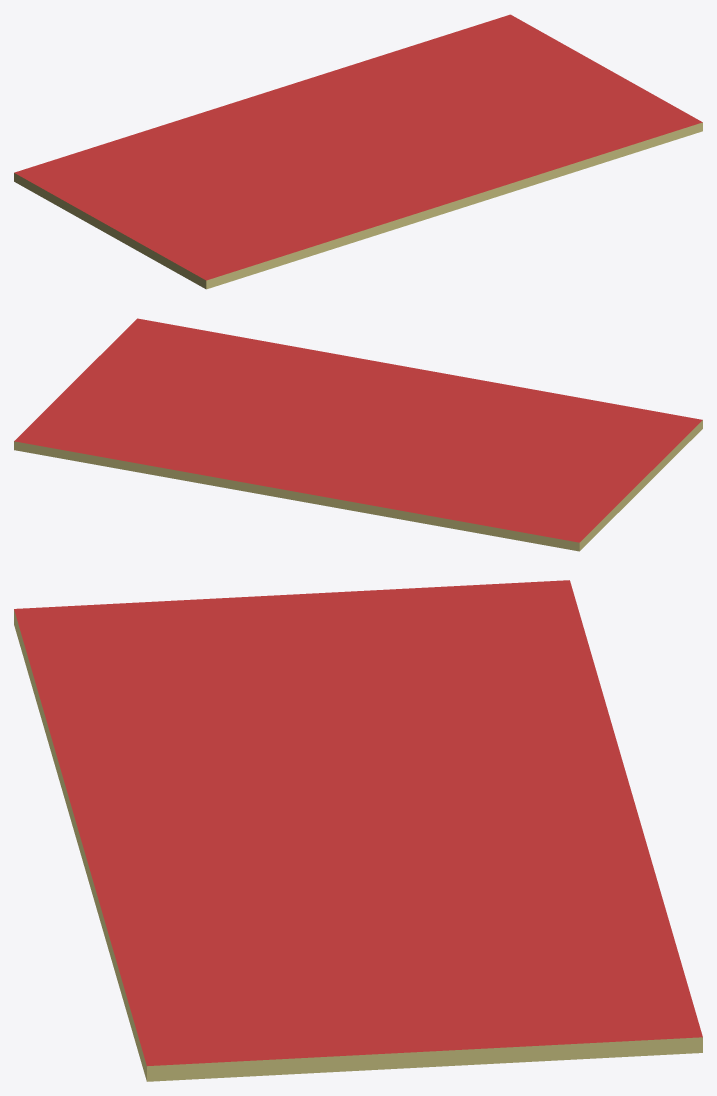
3 views of the same model, one above another, from view 1: azimuth 30°, elevation 25°; view 2: azimuth 150°, elevation 25°; view 3: azimuth 270°, elevation 25° (orthographic). The views are drawn at different scales.
Bounding box in the file's own units: 6.66 × 3.99 × 0.1.
